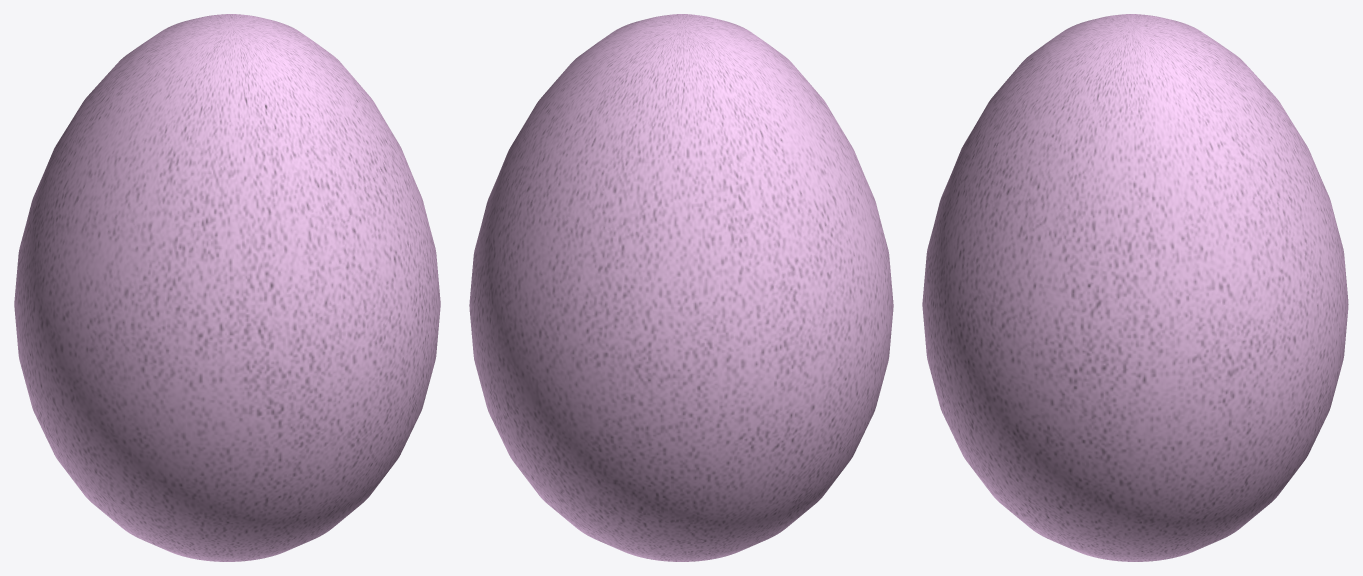
Rendered from DuckEggPink.fbx.
The picture shows the model from 3 angles, left to right: view 1: azimuth 30°, elevation 25°; view 2: azimuth 150°, elevation 25°; view 3: azimuth 270°, elevation 25°; orthographic projection.
Parts seen in each view (by area): view 1: Sphere; view 2: Sphere; view 3: Sphere.
Part boxes in pixels (x1,y1,x2,y2): Sphere: (14,14,440,561); Sphere: (469,14,893,561); Sphere: (922,14,1348,561).
Size of the model in its own units: 1.6 by 2.16 by 1.6.
